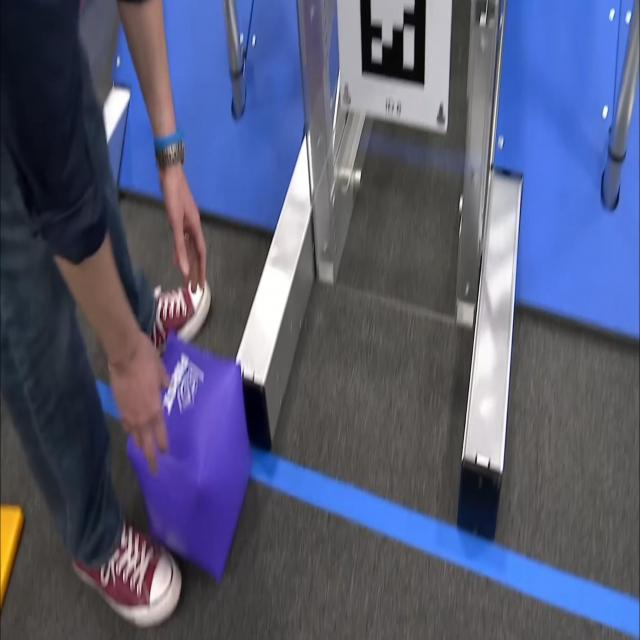frc_cone: (0, 487, 26, 640)
frc_cube: (123, 333, 255, 583)
